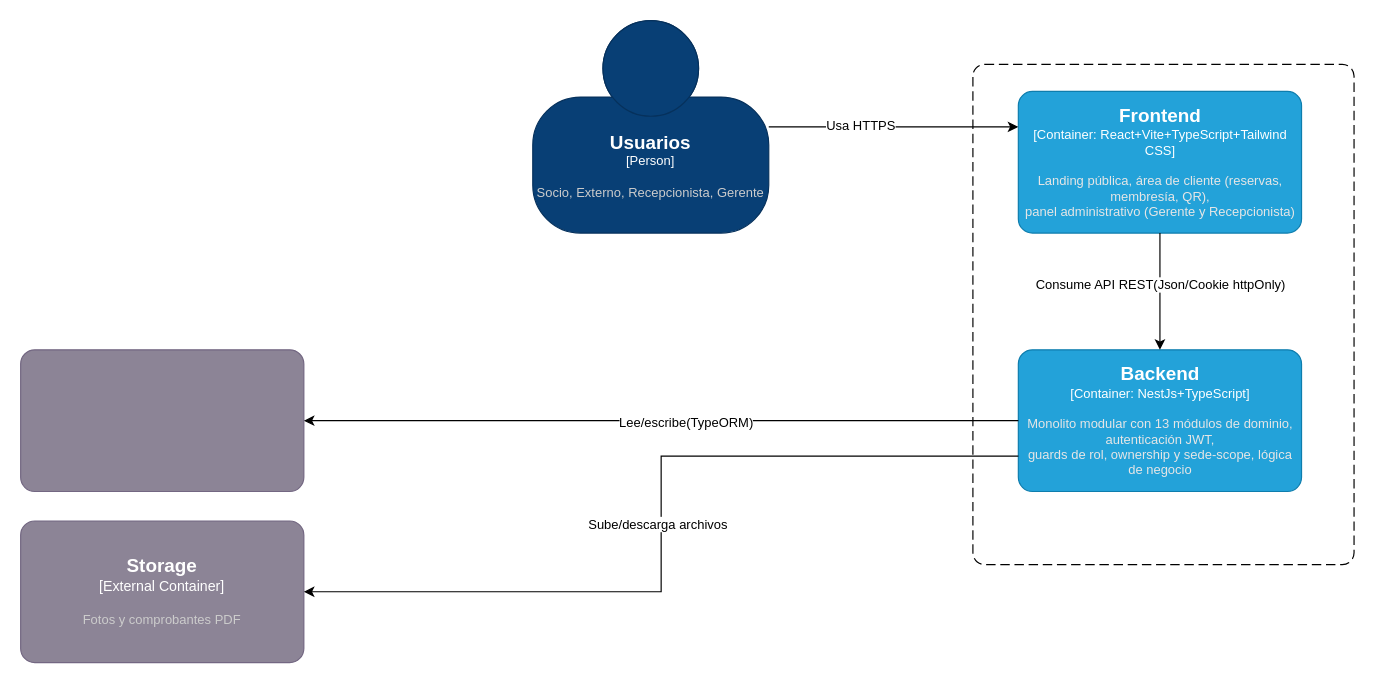
This 1375x683 diagram has some shape labels left out. The shapes that lost their labels are listed below. From the top down, each one's box as (x1, y1, x2, y2) in pixels, then its label:
(972, 63, 1354, 565): FitZoneSports [Software System]
(19, 349, 304, 491): Base de datos [Container:PostgreSQL] 12+ entidades (Supabase)
